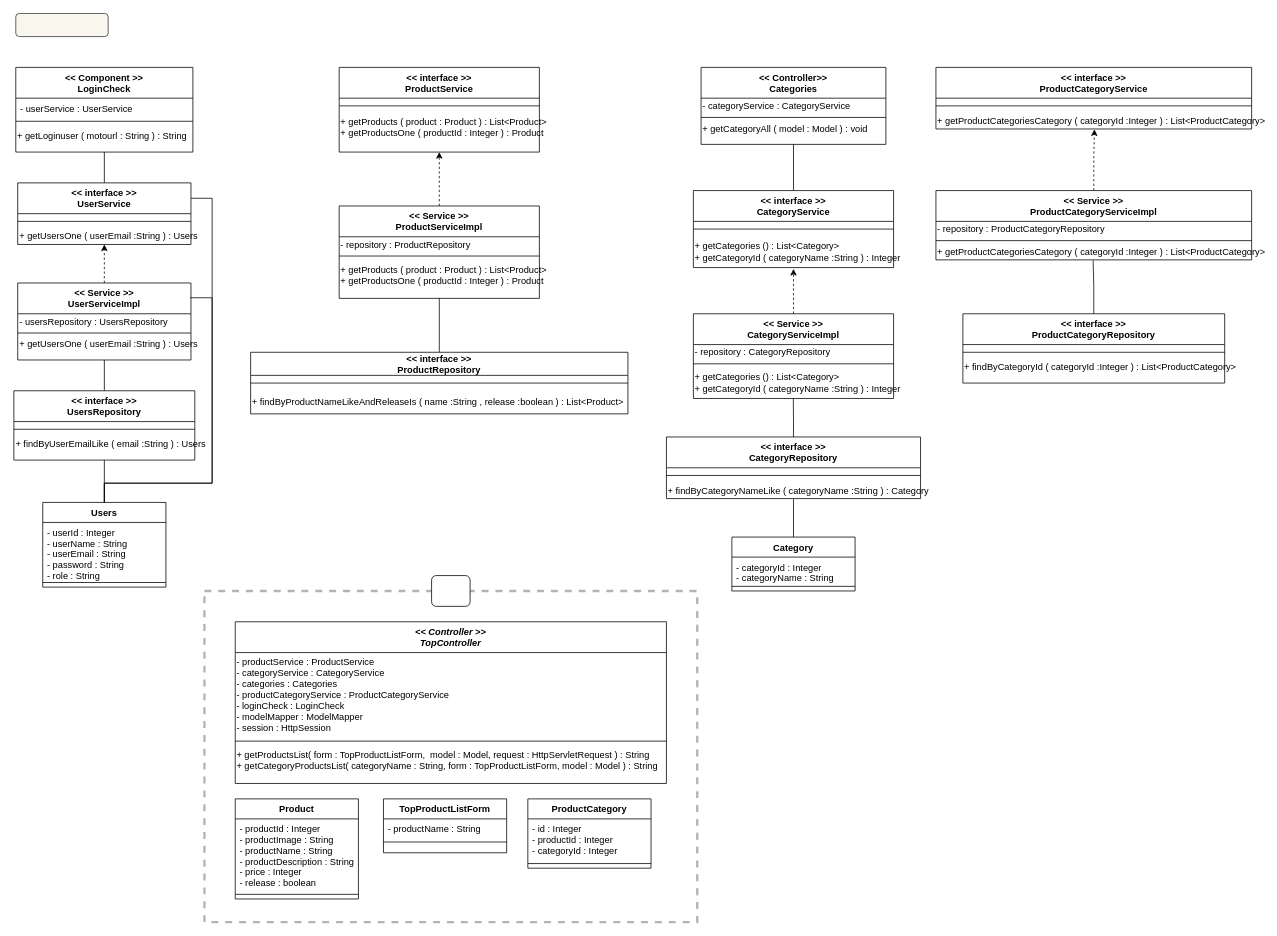
The diagram is 1277 pixels wide and 936 high, and some of its shapes have lost their labels. The shapes that lost their labels are listed below. From the top down, each one's centre as x and y in pixels, then its label:
(x=61, y=25): topページ表示
(x=450, y=590): 共通
